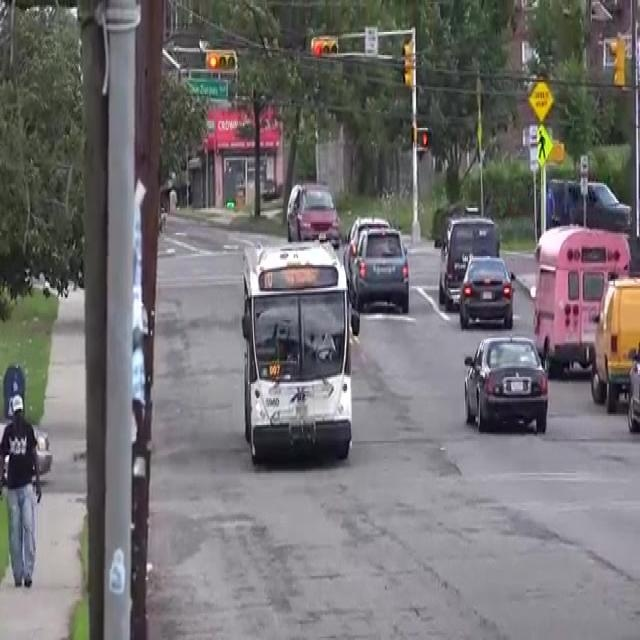Bus: (228, 233, 356, 471), (528, 222, 636, 384)
